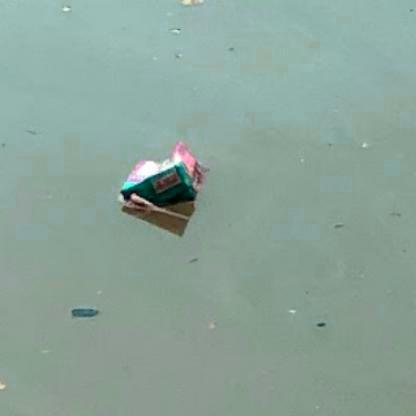Trash: (113, 137, 212, 222)
